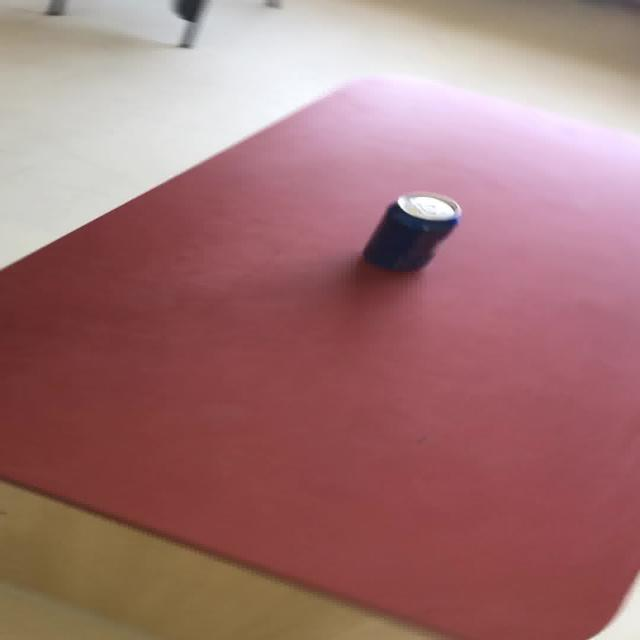tonic: (1, 72, 638, 638), (360, 191, 461, 272)
